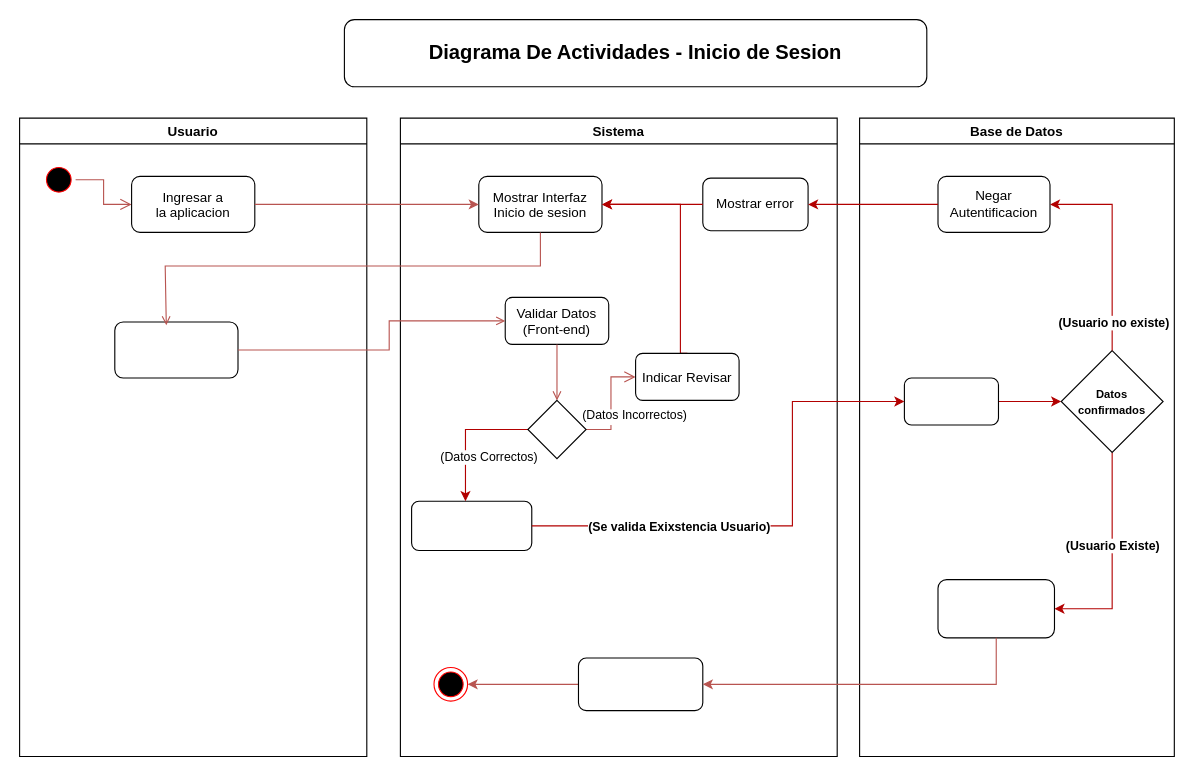
Some shapes in this 1194 by 776 pixel diagram are drawn without their labels. Here are the shapes that lost their labels. From the top down, the box of each, then its label:
(114, 321, 238, 378): Ingresar Datos de Usuario
(903, 377, 998, 425): Validar Datos
(410, 500, 532, 550): Solicitar autentificacion
(937, 578, 1054, 638): Confirma Autentificacion
(577, 657, 703, 711): Mostrar Pagina Principal
